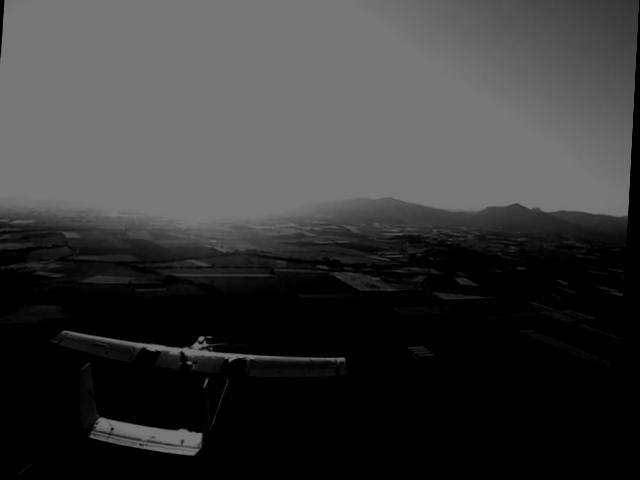hedef: (44, 315, 358, 463)
